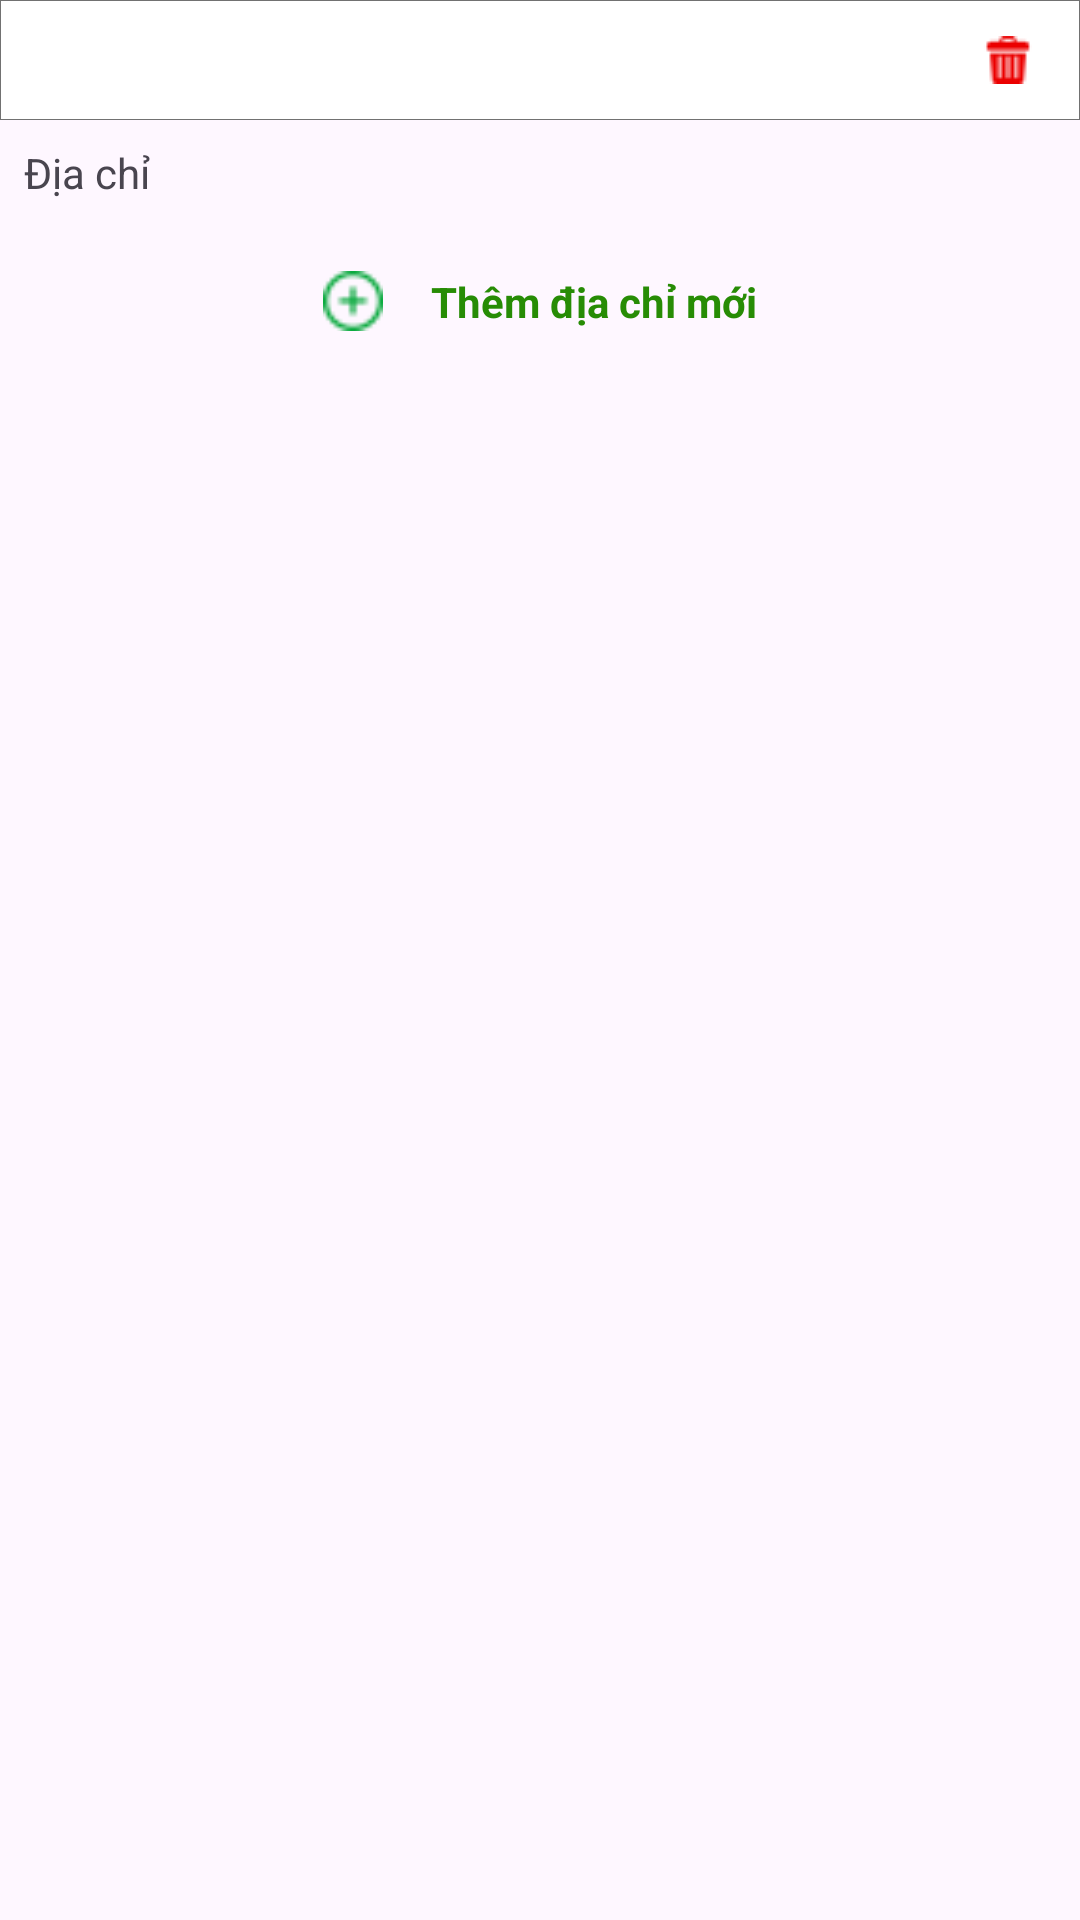

Screen size 1080 × 1920. Icon name, then its box in pixels as box(x1, y1, x2, y2):
add: box(323, 271, 383, 331)
trash can: box(986, 36, 1030, 84)
